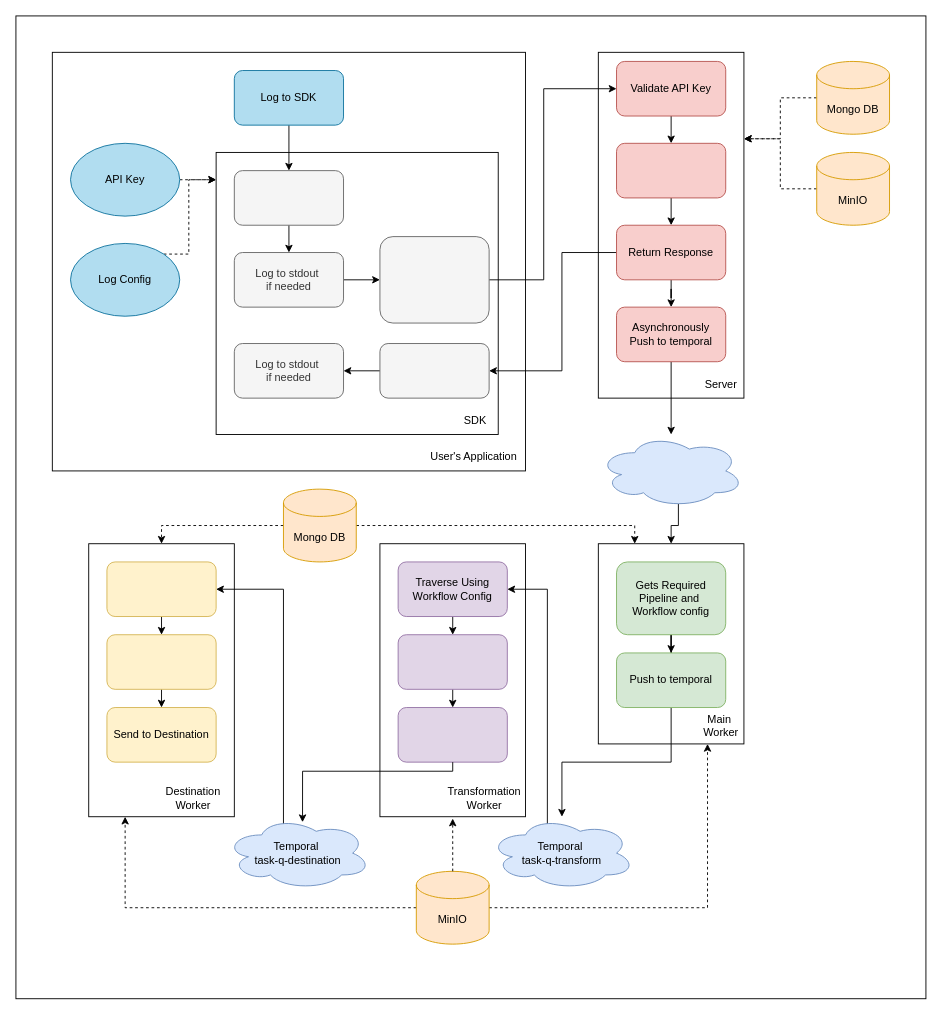
This 942x1015 diagram has some shape labels left out. The shapes that lost their labels are listed below. From the top down, each one's box as (x1, y1, x2, y2) in pixels, then its label:
(616, 142, 726, 198): Validate Pipeline ID
(233, 170, 344, 225): Run through Log Config
(379, 236, 489, 323): Asynchronously push to Server if needed with API Key
(379, 343, 489, 398): Receive Respone
(597, 434, 744, 507): Temporal task-q
(106, 561, 216, 617): Get destination config
(106, 634, 216, 689): Get correct destination Plugin
(397, 634, 507, 689): Transform and Filter
(397, 707, 507, 762): Push to temporal for pushing to destination
